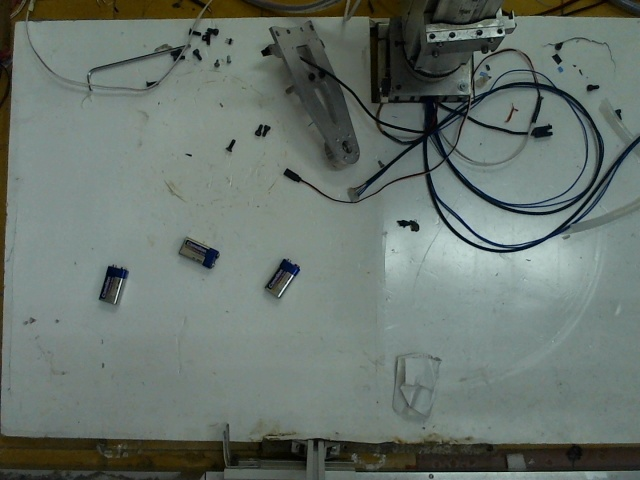battery: (258, 253, 303, 302), (175, 232, 220, 272), (96, 262, 129, 306)
